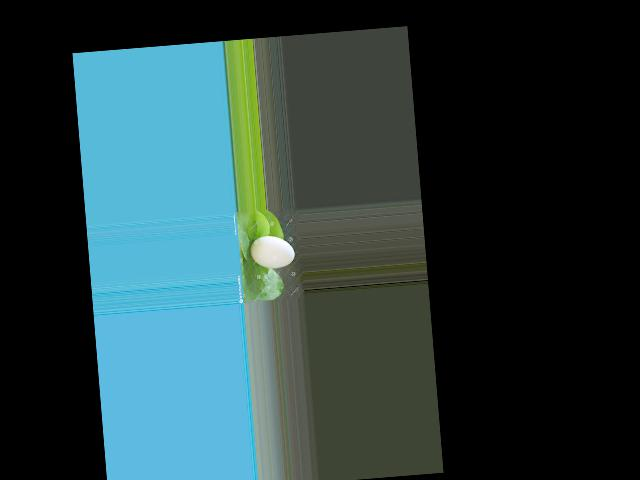egg: (249, 233, 295, 270)
